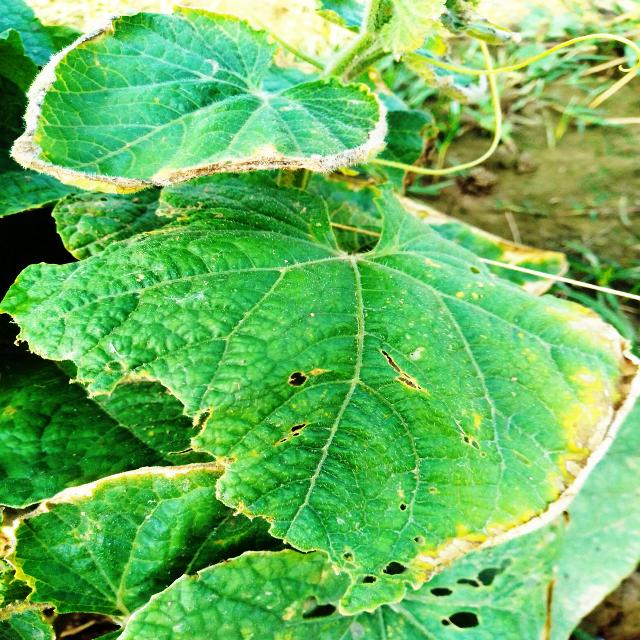Gummy-Stem-Blight: (9, 8, 389, 193), (412, 307, 640, 580)
